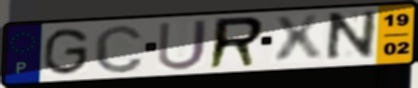C: (92, 22, 146, 75)
G: (41, 26, 92, 77)
N: (322, 8, 379, 65)
R: (205, 15, 267, 72)
U: (155, 17, 211, 72)
X: (270, 13, 326, 66)
